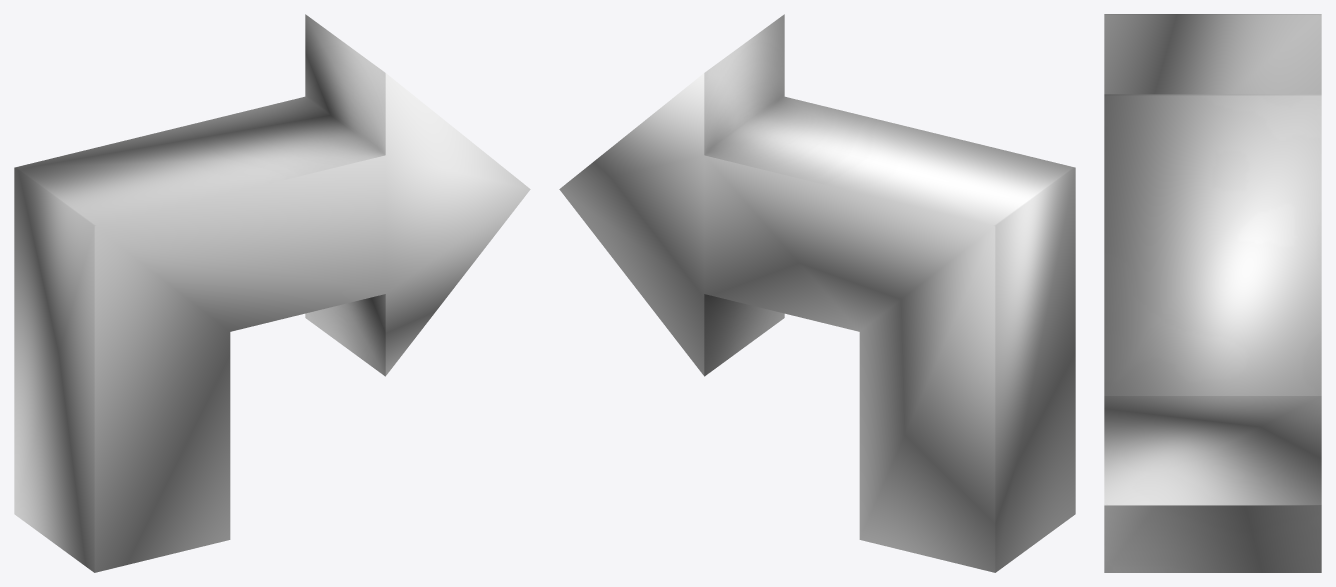
File: Arrow22.fbx
3 renders of one model, left to right at view 1: azimuth 30°, elevation 25°; view 2: azimuth 150°, elevation 25°; view 3: azimuth 270°, elevation 25°, orthographic. The views are drawn at different scales.
Parts seen in each view (by area): view 1: Arrow22; view 2: Arrow22; view 3: Arrow22.
Part boxes in pixels (left/top/right/bottom): Arrow22: left=14, top=14, right=530, bottom=572; Arrow22: left=559, top=14, right=1075, bottom=572; Arrow22: left=1104, top=14, right=1321, bottom=572.
Size of the model in its own units: 7.98 by 7.5 by 2.54.
